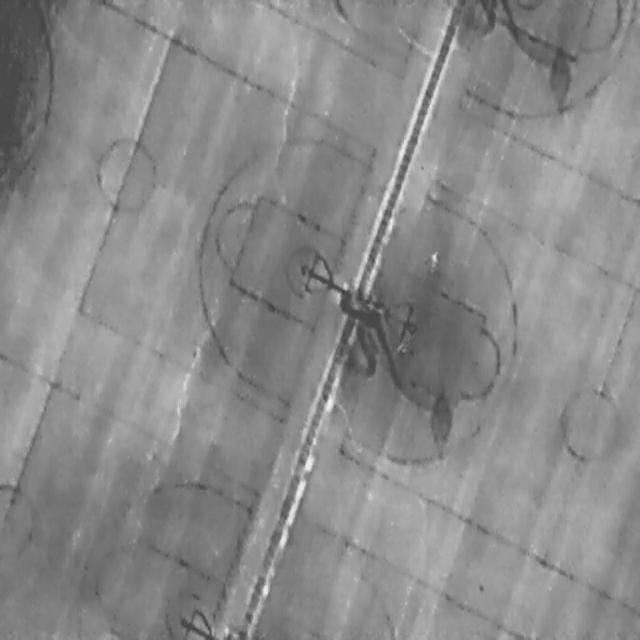Person: (427, 246, 438, 274)
